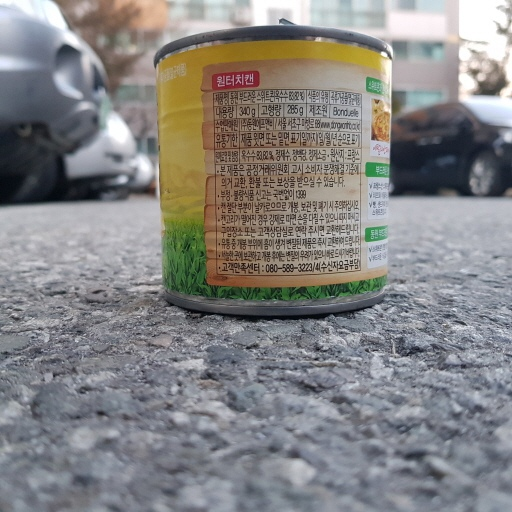Metal_1: (154, 19, 398, 318)
